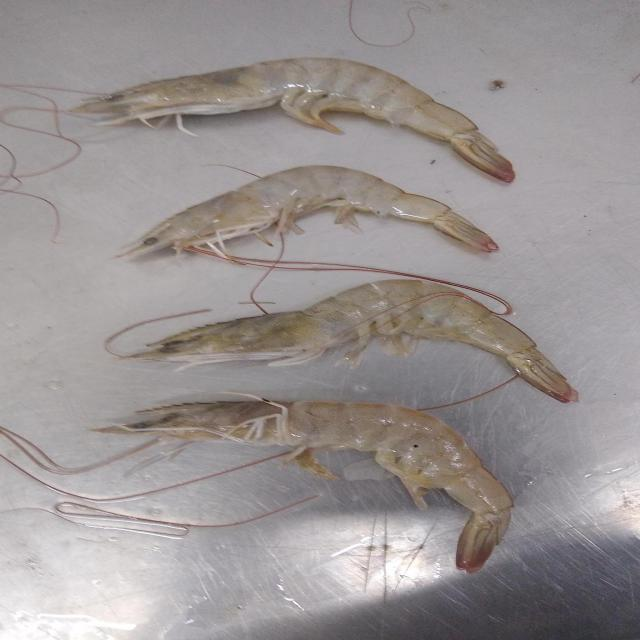shrimp: (98, 399, 513, 572), (129, 280, 578, 402), (71, 58, 516, 181), (122, 165, 498, 256)
